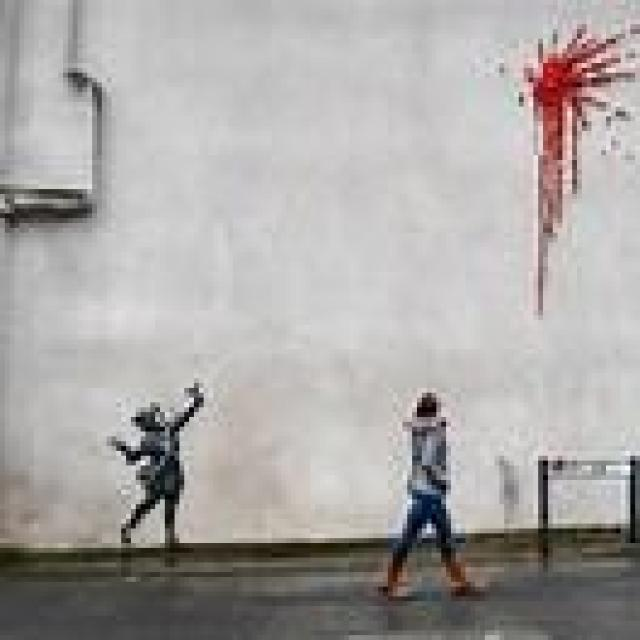nonspitting: (523, 24, 640, 310)
spitting: (106, 382, 204, 548)
